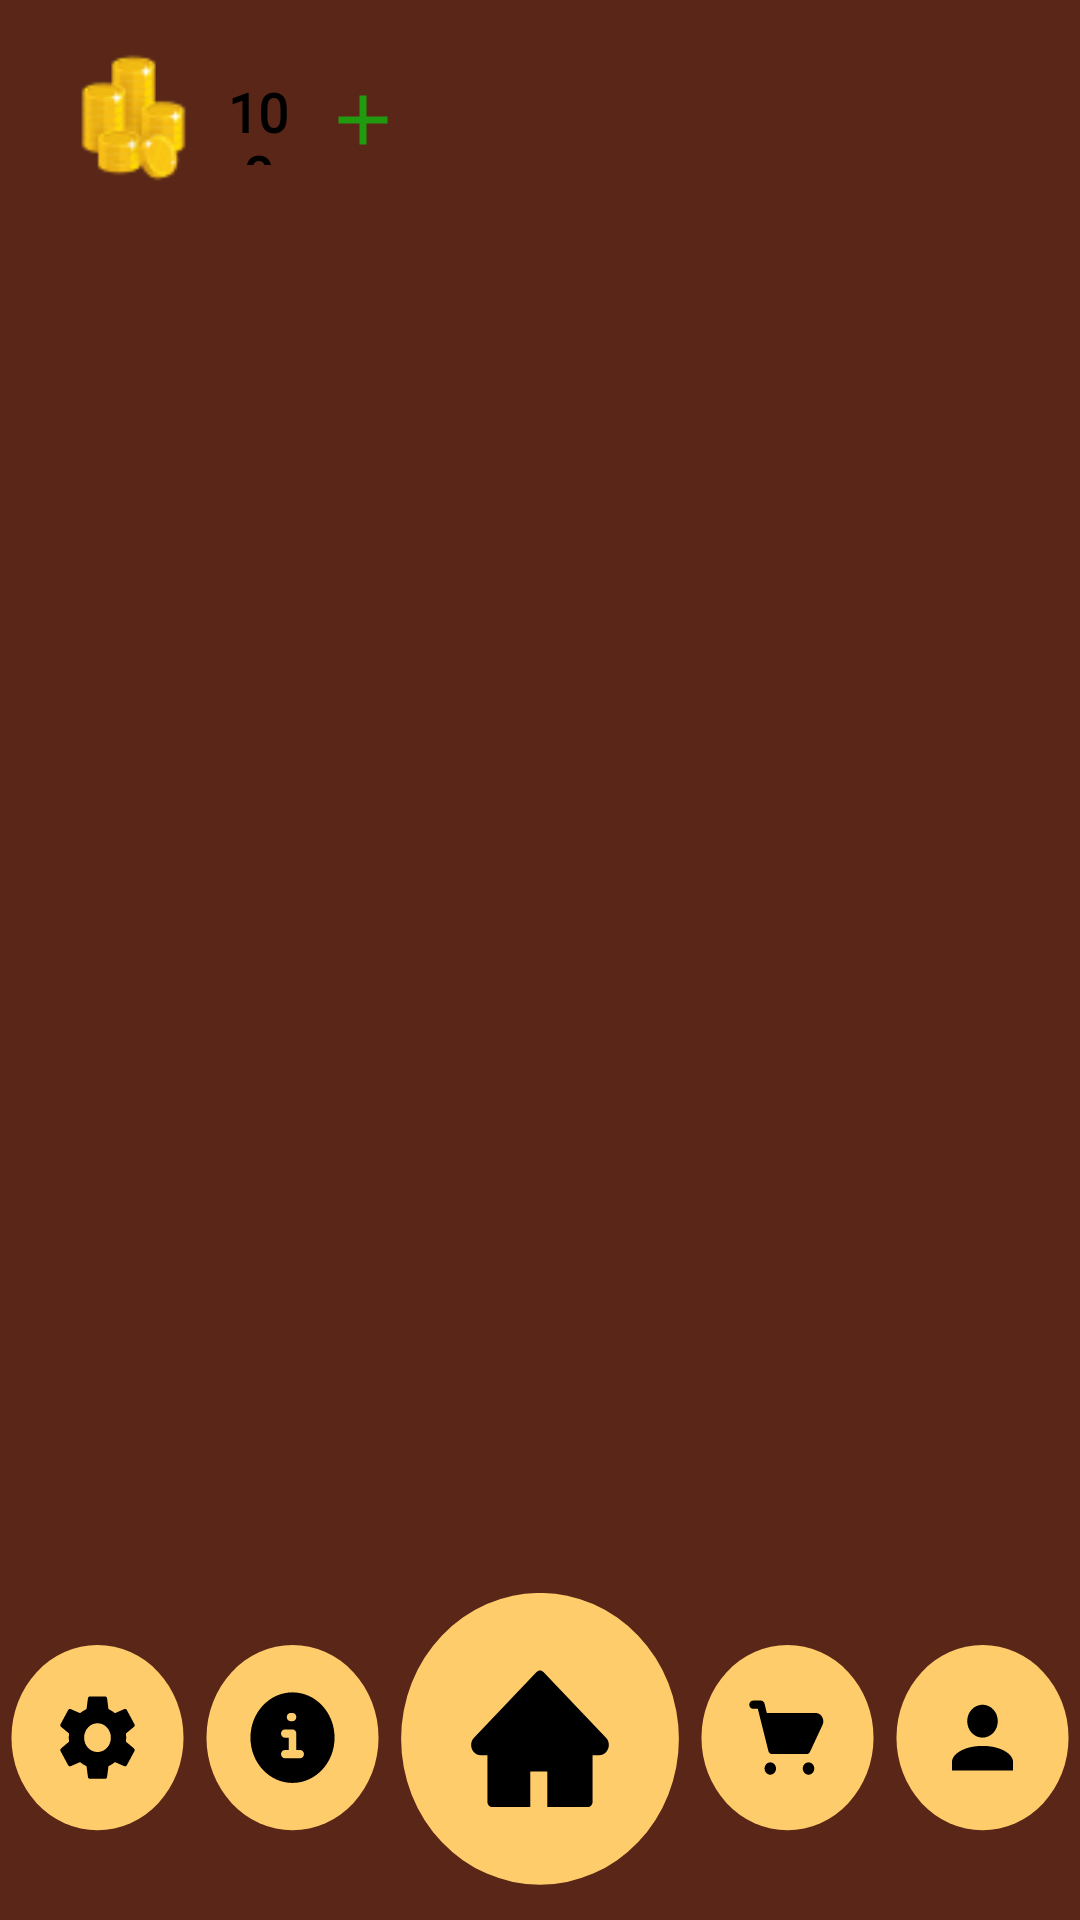

Named icons in this screenshot (1080x1920) and their bounding boxes, (x1, y1, x2, y2):
coin: (81, 55, 186, 180)
home: (401, 1593, 679, 1885)
info: (206, 1645, 379, 1831)
profile: (896, 1645, 1069, 1831)
setting: (11, 1645, 184, 1831)
shop: (701, 1645, 874, 1831)
